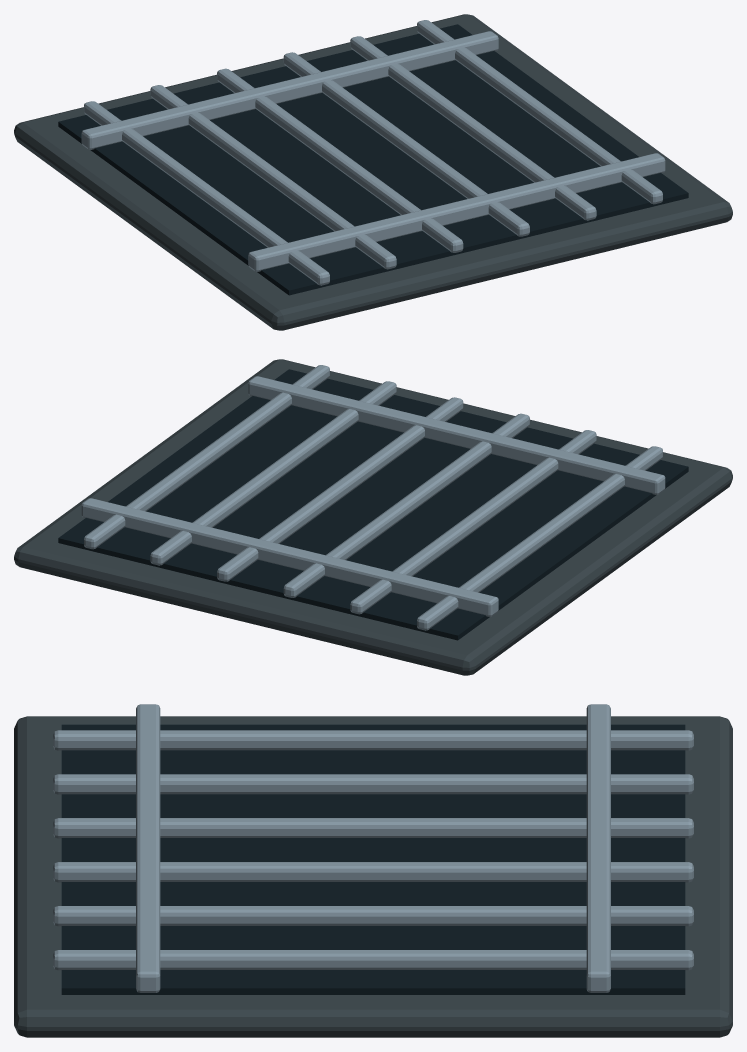
The model's file is FloorGrate.glb.
The picture shows the model from 3 angles, top to bottom: view 1: azimuth 30°, elevation 25°; view 2: azimuth 150°, elevation 25°; view 3: azimuth 270°, elevation 25°; orthographic projection. The views are drawn at different scales.
Parts seen in each view (by area): view 1: FloorGrate; view 2: FloorGrate; view 3: FloorGrate.
Part boxes in pixels (<box>): FloorGrate: <box>14,14,732,330</box>; FloorGrate: <box>14,359,732,675</box>; FloorGrate: <box>14,704,732,1037</box>.
Size of the model in its own units: 0.83 by 0.067 by 0.83.
